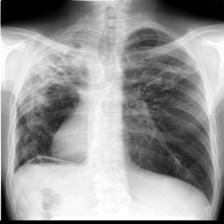tuberculosis: (7, 17, 217, 211)
